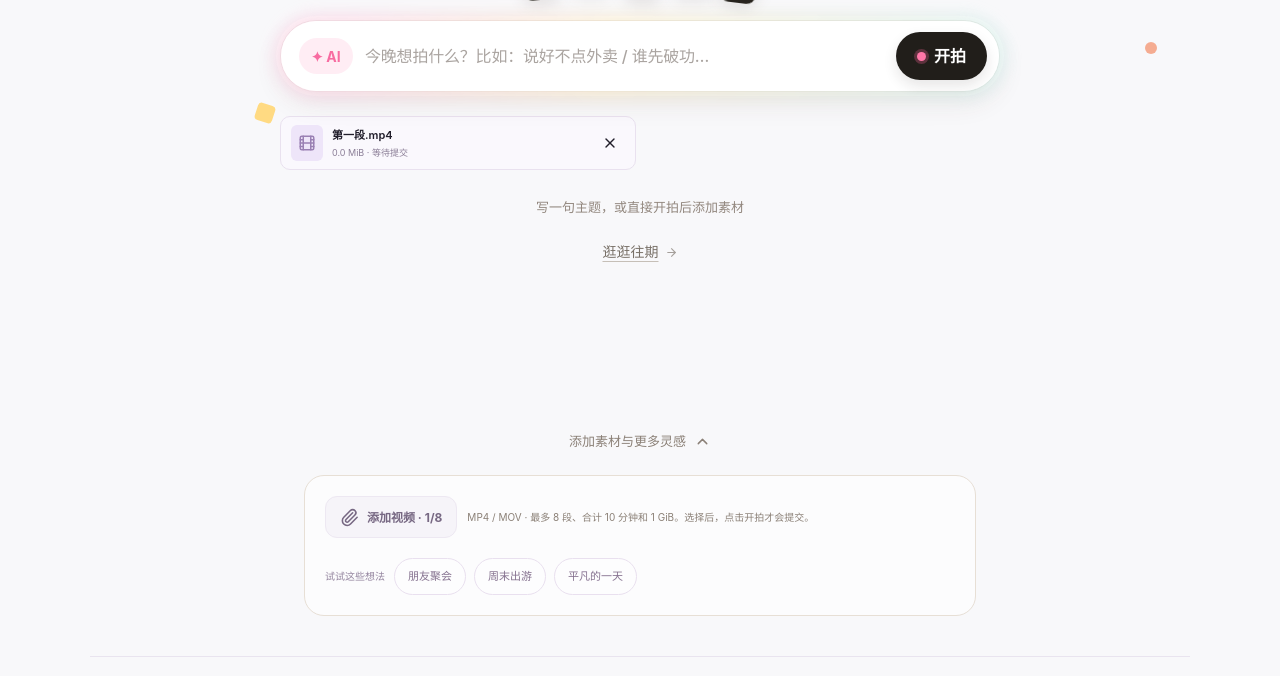
it: never recreates or automatically claims a list entry after an uncertain create response
The width and height of the screenshot is (1280, 676).
Earlier steps of the test are not shown.
Later steps or results of the test are not shown.
(page scrolled)
Type "保留这个想法" into the field named "这一期的想法" at (624,56), box [365,35,884,78]
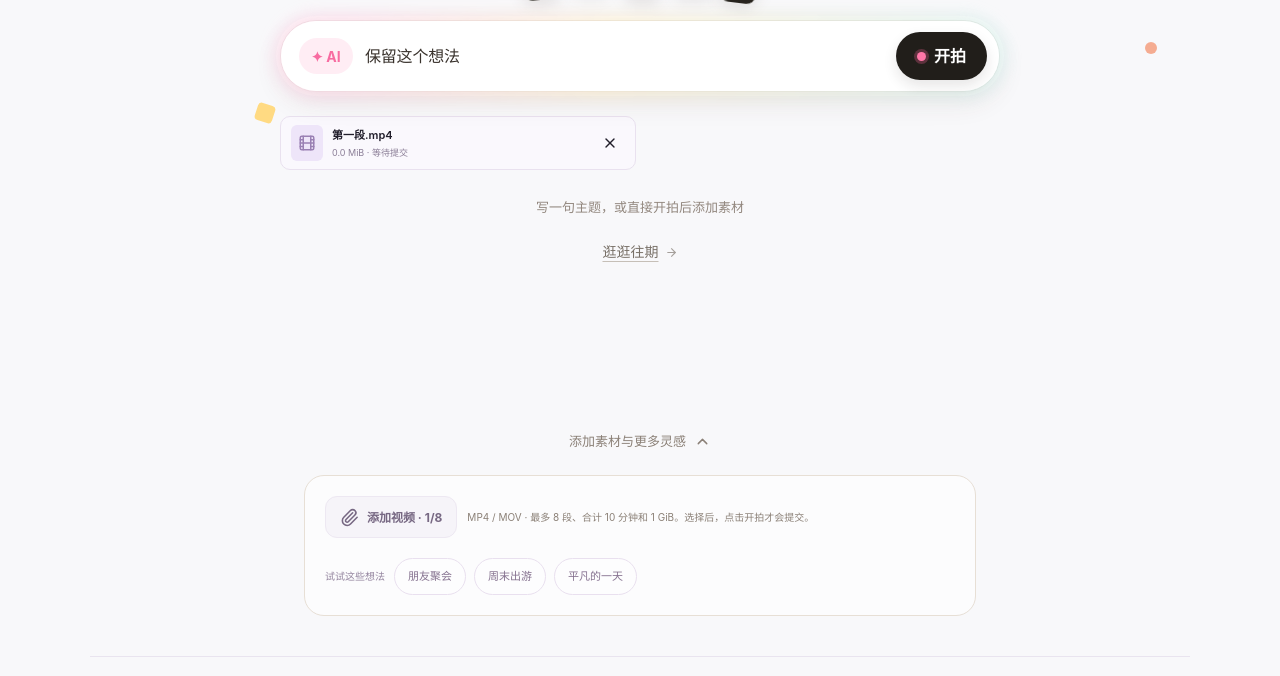
Click the button "开拍" at (942,56), box [896,32,987,80]
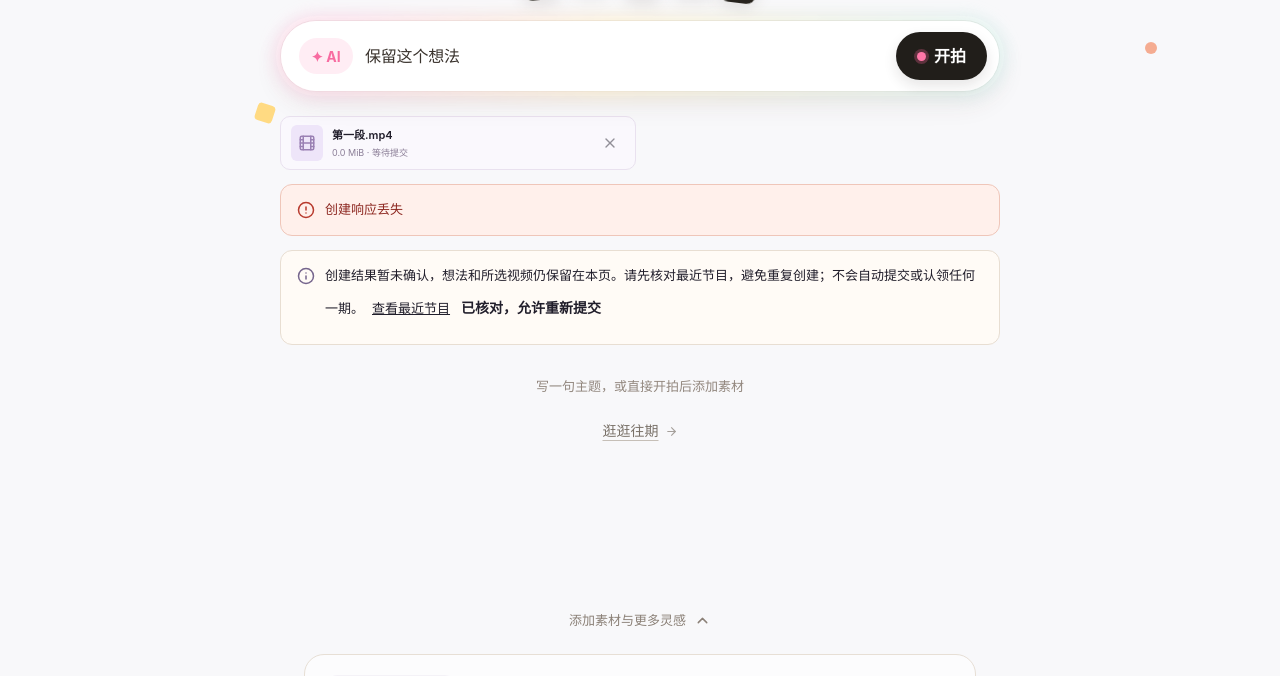
Check: the text "第一段.mp4" is shown, box [332,128,393,142]
Check: the message "创建响应丢失" is shown, box [280,184,1000,236]
